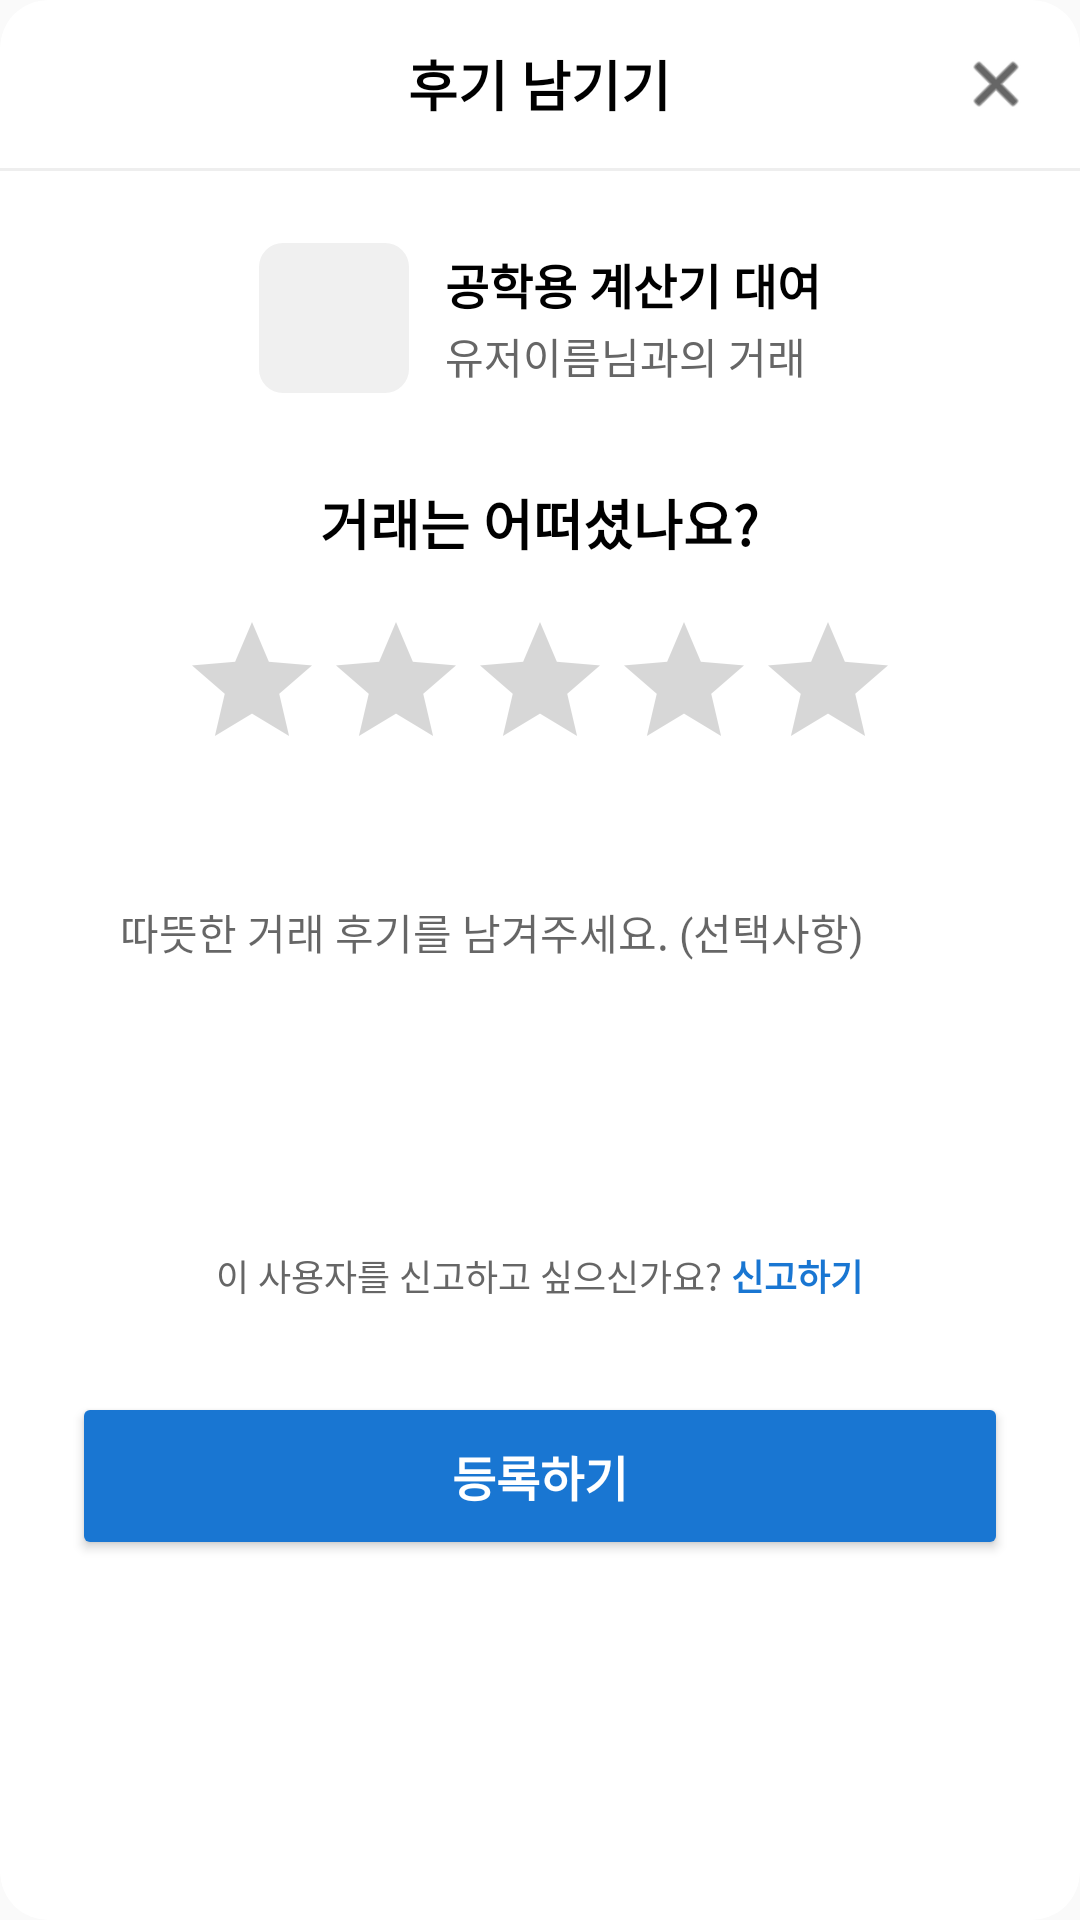

Icon bounding boxes for this 1080 × 1920 phone screenshot, format (x1, y1, x2, y2):
close clear cancel: (973, 61, 1019, 107)
